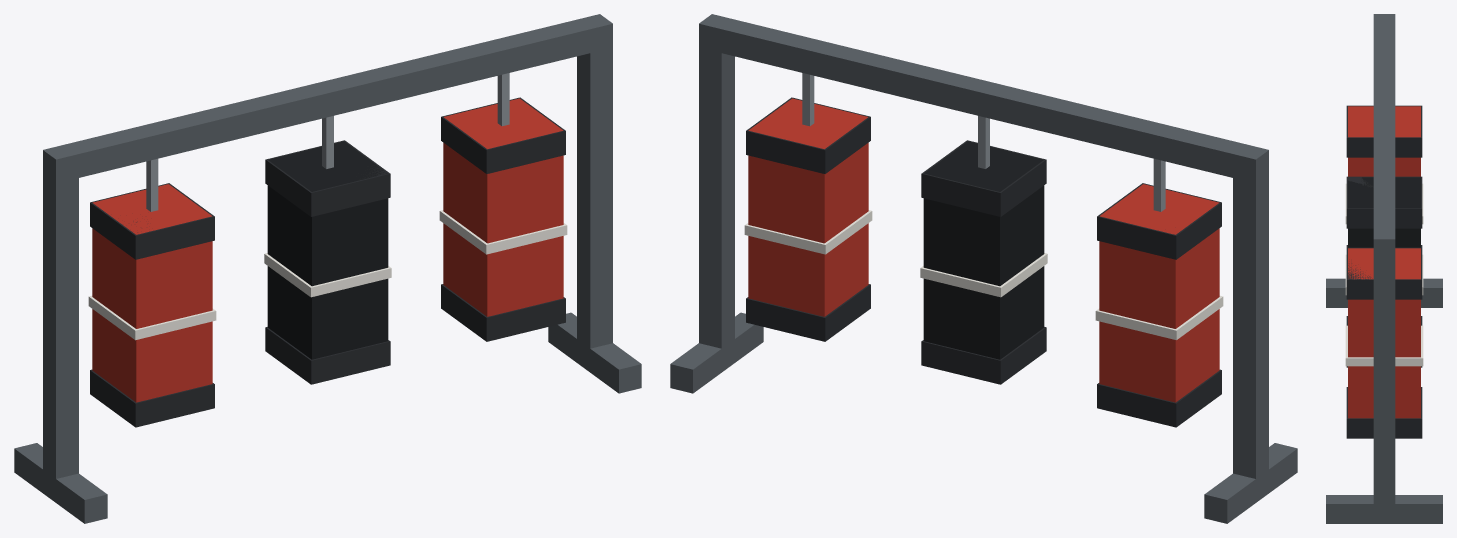
File: HeavyBagRack.fbx
3 views of the same model, side by side, from view 1: azimuth 30°, elevation 25°; view 2: azimuth 150°, elevation 25°; view 3: azimuth 270°, elevation 25° (orthographic). The views are drawn at different scales.
Visible parts, largest first — view 1: HeavyBagRack_Mesh, HeavyBag_2, HeavyBag_1, HeavyBag_3; view 2: HeavyBagRack_Mesh, HeavyBag_2, HeavyBag_1, HeavyBag_3; view 3: HeavyBagRack_Mesh, HeavyBag_3, HeavyBag_2, HeavyBag_1.
Part boxes in pixels (box(x1,y1,x2,y2)): HeavyBagRack_Mesh: box(14, 14, 641, 523); HeavyBag_2: box(264, 116, 391, 384); HeavyBag_1: box(88, 158, 216, 427); HeavyBag_3: box(439, 73, 567, 341); HeavyBagRack_Mesh: box(670, 14, 1297, 523); HeavyBag_2: box(920, 116, 1047, 384); HeavyBag_1: box(1095, 158, 1223, 427); HeavyBag_3: box(744, 73, 872, 341); HeavyBagRack_Mesh: box(1326, 14, 1442, 523); HeavyBag_3: box(1345, 247, 1423, 438); HeavyBag_2: box(1345, 176, 1423, 367); HeavyBag_1: box(1345, 105, 1423, 247).
Size of the model in its own units: 7.3 by 4.3 by 1.6.
1 material, 1 textured.
